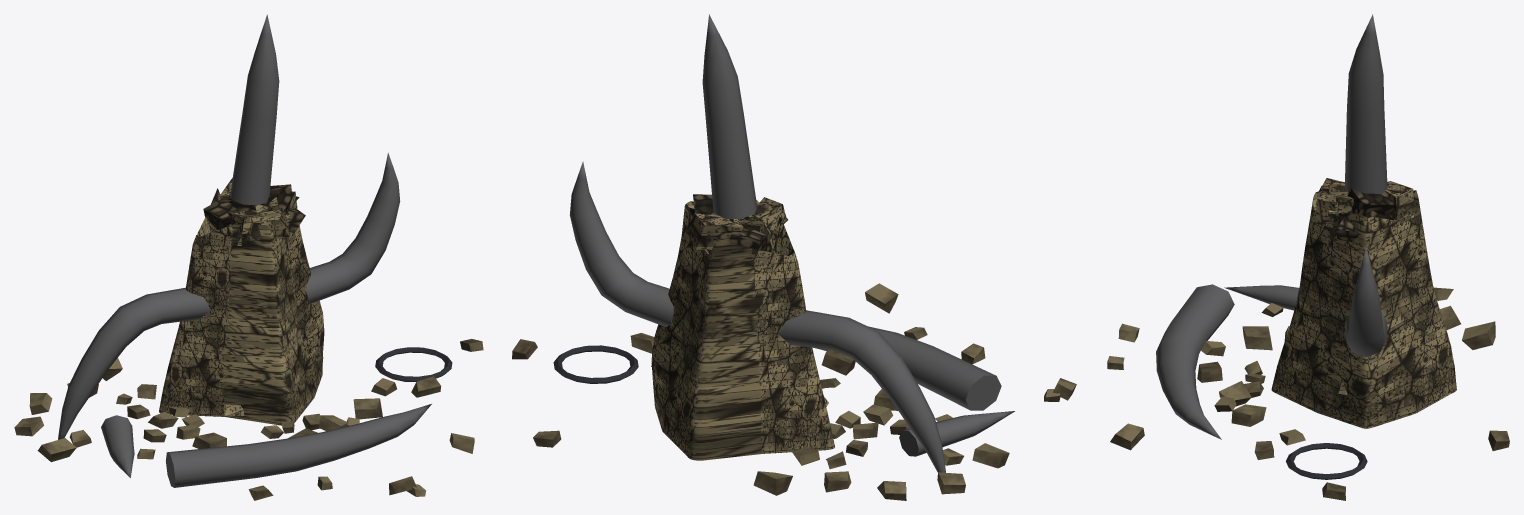
The model's file is TarDev06a.glb.
The picture shows the model from 3 angles, left to right: view 1: azimuth 30°, elevation 25°; view 2: azimuth 150°, elevation 25°; view 3: azimuth 270°, elevation 25°; orthographic projection. The views are drawn at different scales.
Parts seen in each view (by area): view 1: TarDev06a; view 2: TarDev06a; view 3: TarDev06a.
Part boxes in pixels (bbox=[...]): TarDev06a: bbox=[14, 14, 483, 500]; TarDev06a: bbox=[512, 14, 1014, 500]; TarDev06a: bbox=[1044, 14, 1509, 500].
Bounding box in the file's own units: 8.74 × 7.3 × 7.63.
Materials: 6 (4 with a texture image).
